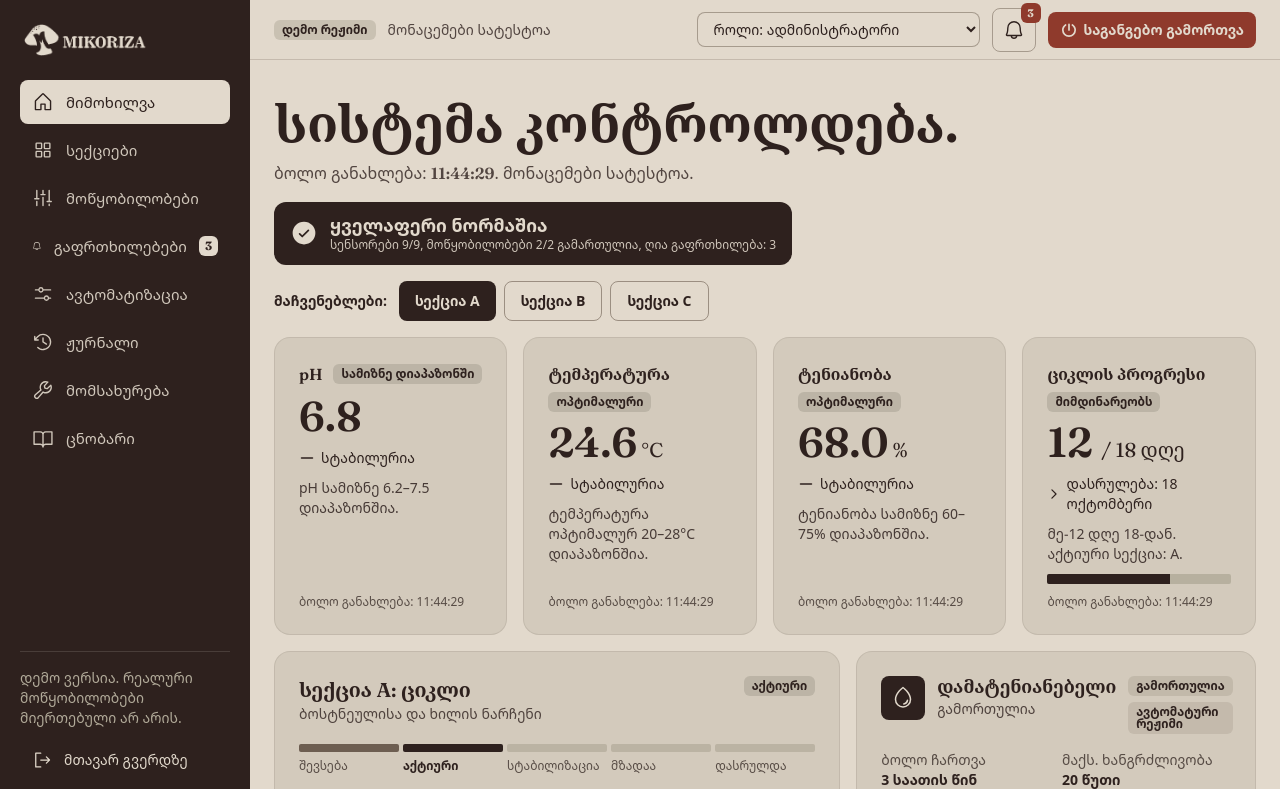
admin dashboard › links an alert to its guide
Expected: the heading "სისტემა კონტროლდება." is shown, [274,92,959,156]
Click the link "გაფრთხილებები 3": (125, 246) [32,235,218,257]
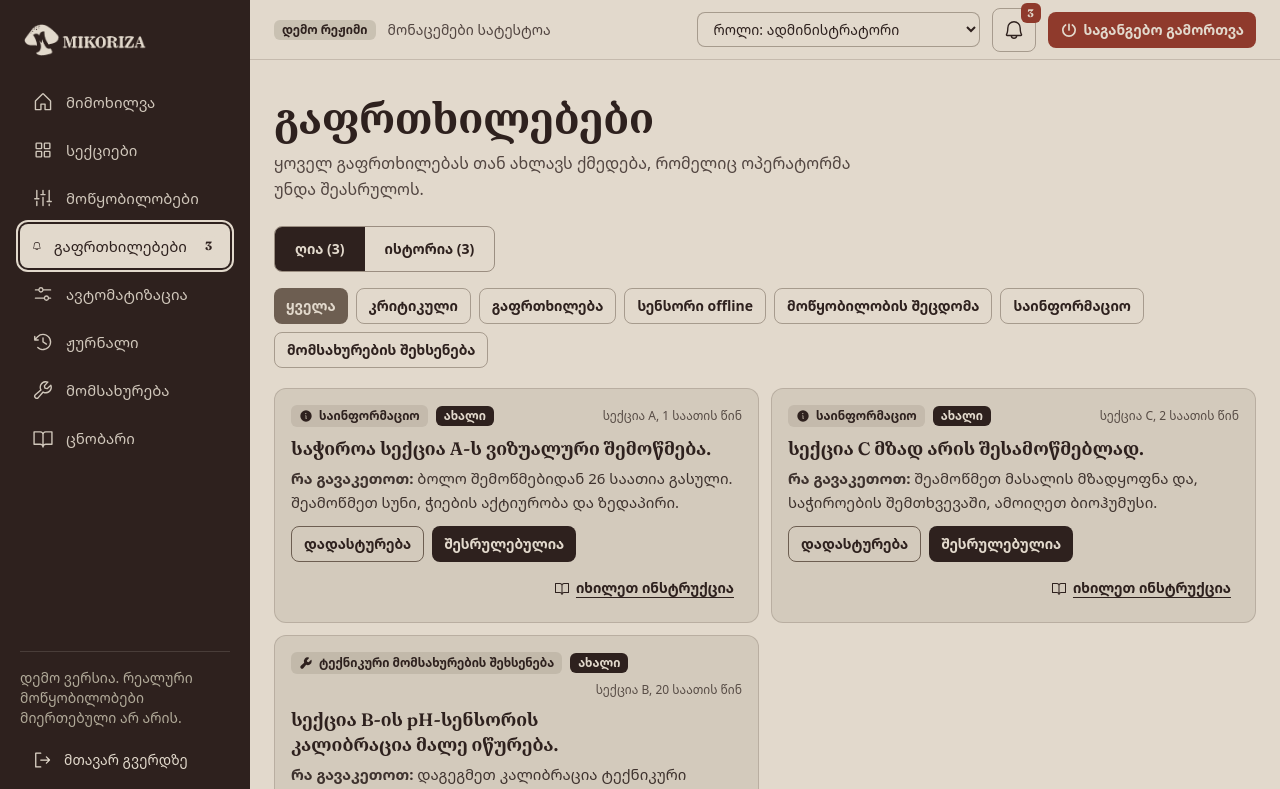
Click the link "იხილეთ ინსტრუქცია" below "საჭიროა სექცია A-ს ვიზუალური შემოწმება.": (644, 588) [554,578,734,598]
(page scrolled)
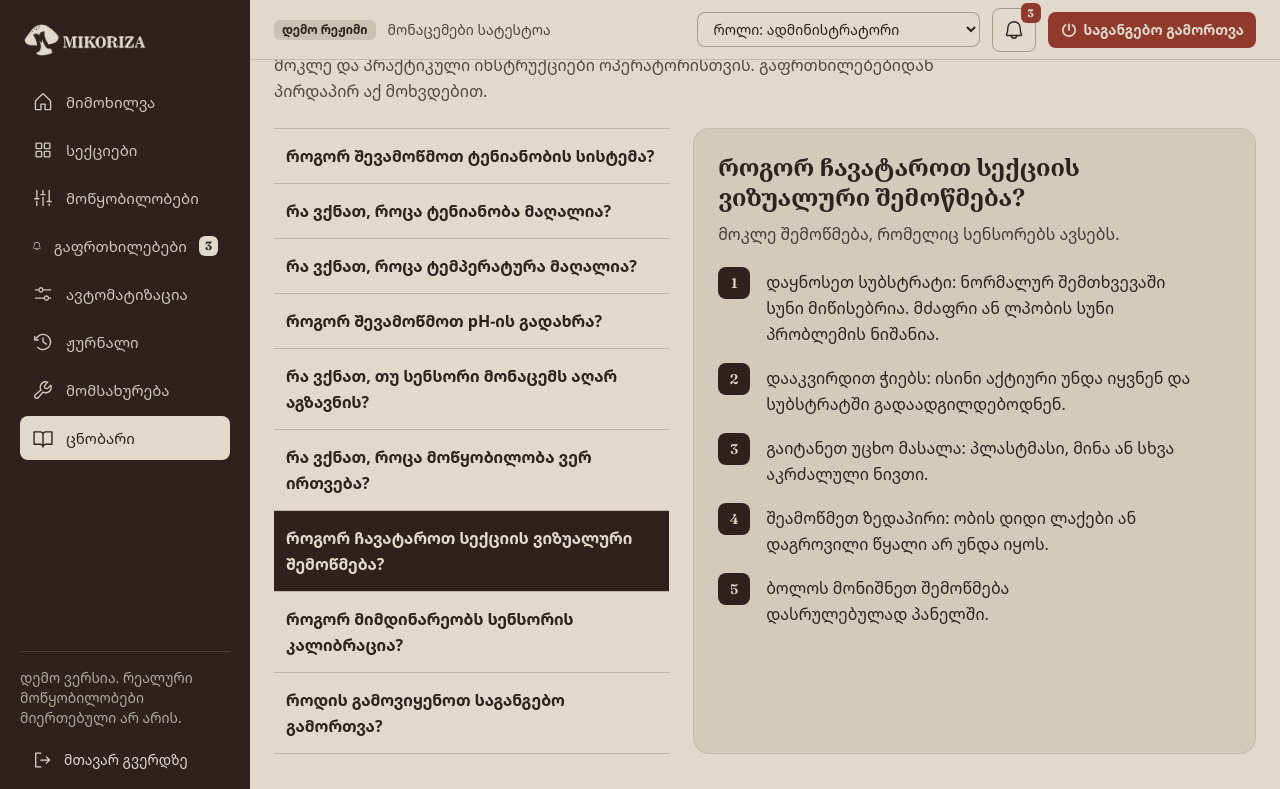
Expected: the element with test id "guide-detail" is shown, [693,128,1256,754]
